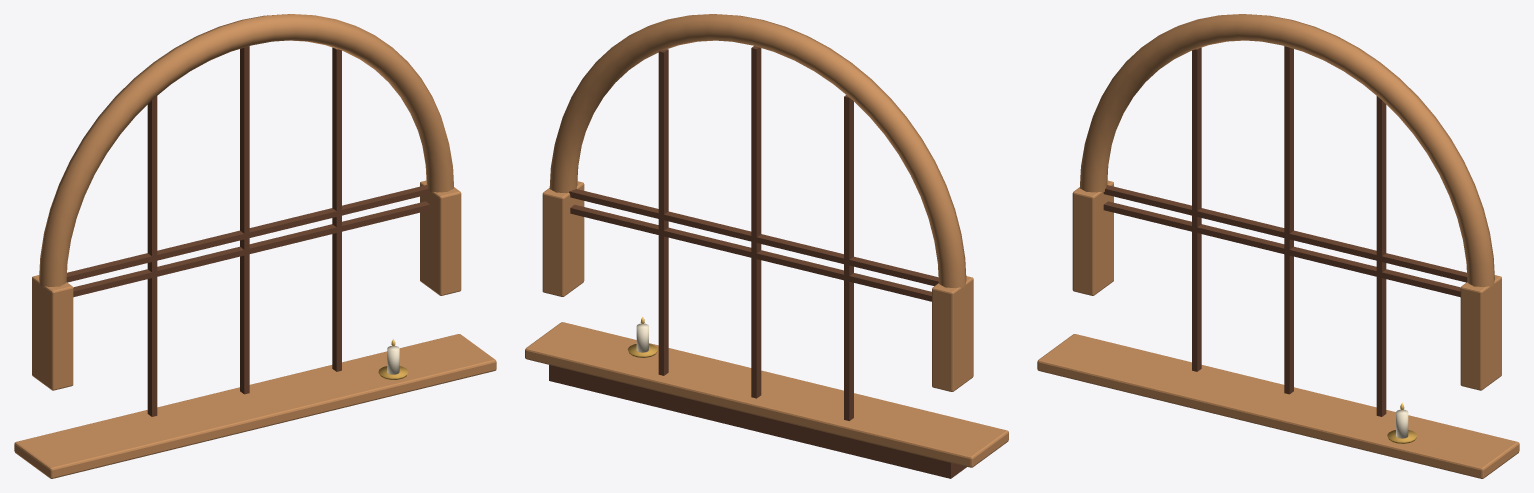
File: window.glb
3 renders of one model, left to right at view 1: azimuth 30°, elevation 25°; view 2: azimuth 150°, elevation 25°; view 3: azimuth 330°, elevation 25°, orthographic.
Parts seen in each view (by area): view 1: WindowFrame; view 2: WindowFrame; view 3: WindowFrame.
Part boxes in pixels (box(x1,y1,x2,y2)): WindowFrame: box(14, 14, 496, 478); WindowFrame: box(525, 14, 1008, 478); WindowFrame: box(1037, 14, 1519, 478).
Size of the model in its own units: 2.9 by 2.5 by 0.43.
